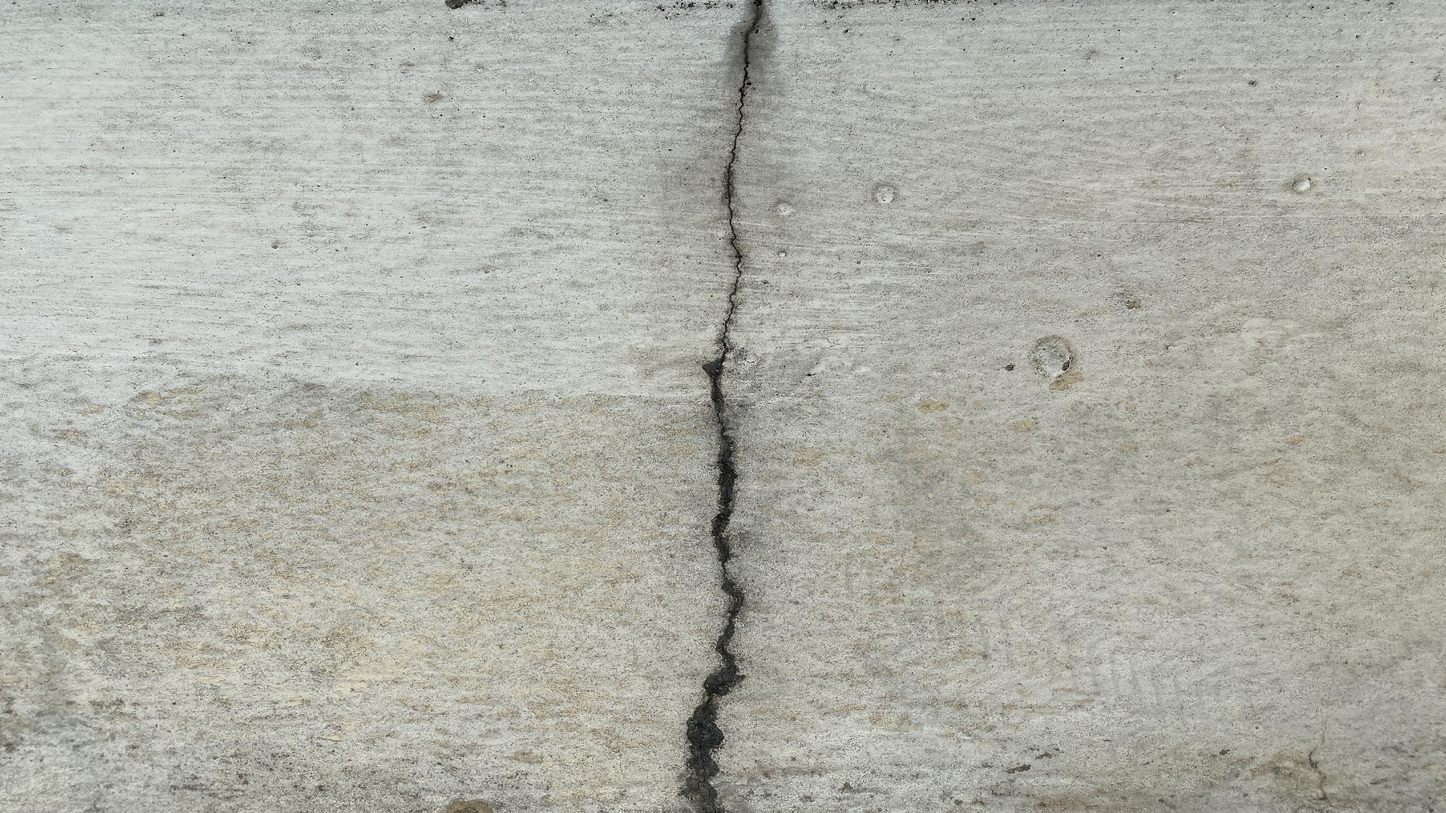crack: (692, 0, 769, 812)
